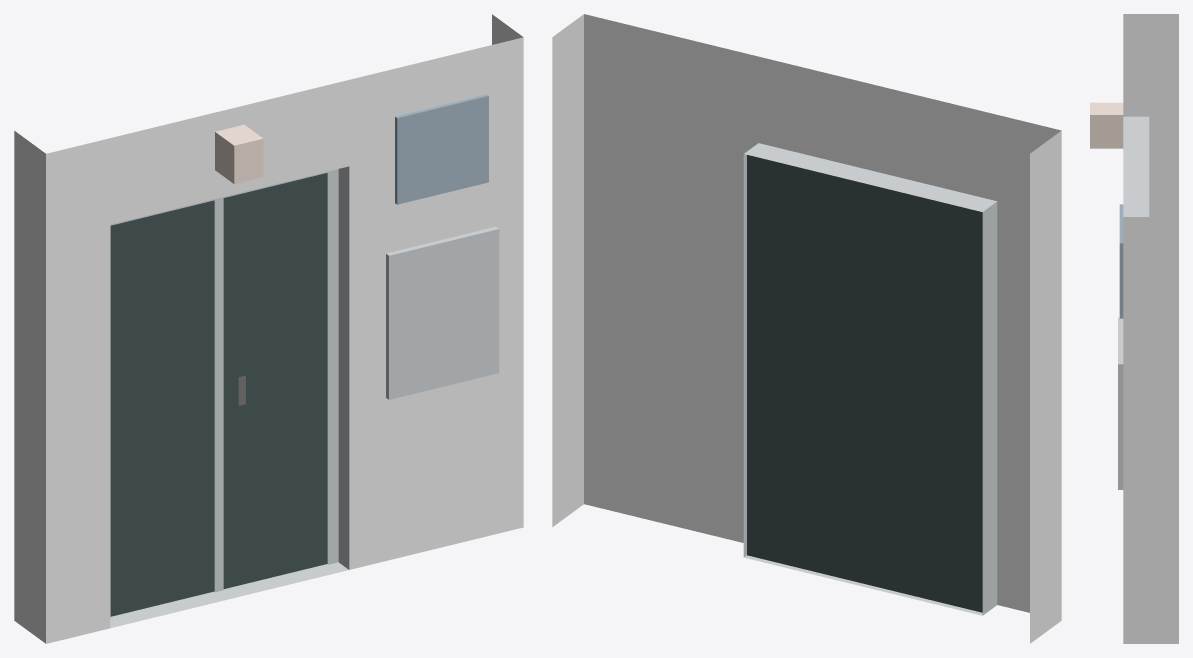
File: entrance.fbx
3 views of the same model, side by side, from view 1: azimuth 30°, elevation 25°; view 2: azimuth 150°, elevation 25°; view 3: azimuth 270°, elevation 25° (orthographic). The views are drawn at different scales.
Visible parts, largest first — view 1: a2006/250/entrance; view 2: a2006/250/entrance; view 3: a2006/250/entrance.
Boxes of the visible parts, bbox=[...] form: a2006/250/entrance: bbox=[14, 14, 523, 643]; a2006/250/entrance: bbox=[552, 14, 1061, 643]; a2006/250/entrance: bbox=[1090, 14, 1178, 643].
Size of the model in its own units: 2.6 by 2.55 by 0.48.
